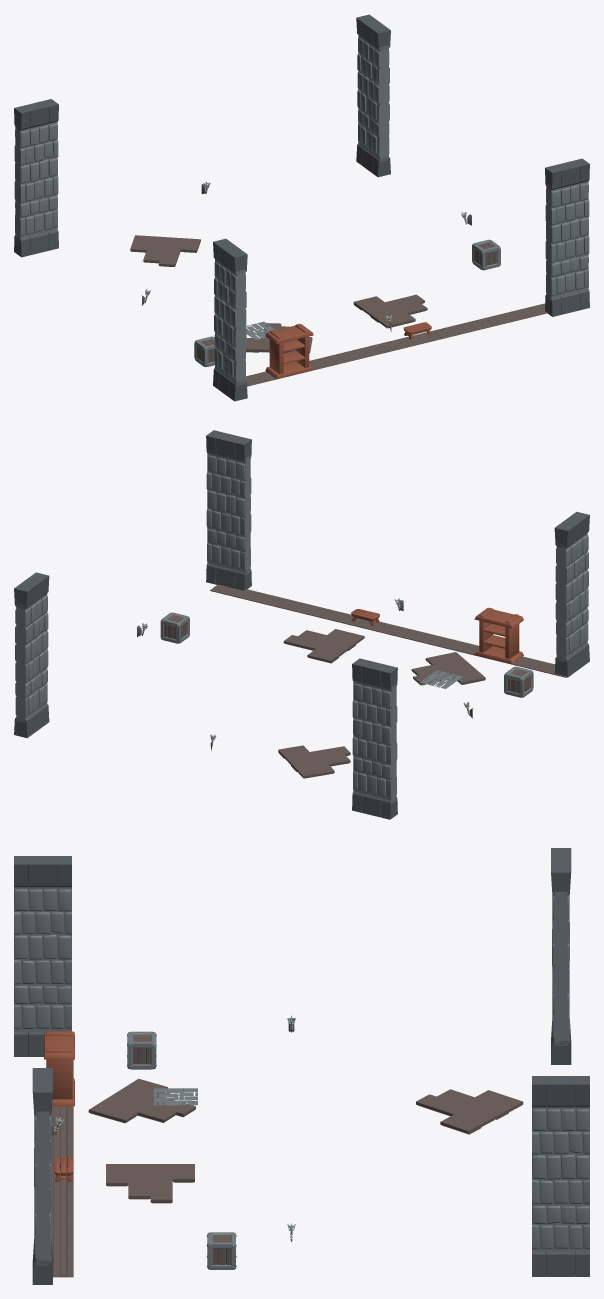
File: modelo.glb
The picture shows the model from 3 angles, top to bottom: view 1: azimuth 30°, elevation 25°; view 2: azimuth 150°, elevation 25°; view 3: azimuth 270°, elevation 25°; orthographic projection. The views are drawn at different scales.
Visible parts, largest first — view 1: wall.002, wall.001, wall.003, wall, floorDecoration_wood, bookcase, floorDecoration_woodLeft, floorDecoration_woodLeft.002, crateDark.001, crateDark, floorDecoration_woodLeft.001; view 2: wall.002, wall.001, wall.003, wall, floorDecoration_wood, bookcase, floorDecoration_woodLeft, floorDecoration_woodLeft.002, floorDecoration_woodLeft.001, crateDark.001, crateDark; view 3: wall.003, wall, wall.001, wall.002, floorDecoration_wood, floorDecoration_woodLeft.002, floorDecoration_woodLeft, floorDecoration_woodLeft.001, bookcase, crateDark, crateDark.001, floorDecoration_tilesLarge.001.
Part boxes in pixels (x1,y1,x2,y2): wall.002: (14,99,58,257); wall.001: (545,158,589,316); wall.003: (356,14,390,177); wall: (213,238,247,401); floorDecoration_wood: (245,303,547,386); bookcase: (265,323,313,378); floorDecoration_woodLeft: (353,294,427,328); floorDecoration_woodLeft.002: (130,235,200,266); crateDark.001: (472,239,500,270); crateDark: (194,336,214,366); floorDecoration_woodLeft.001: (245,323,312,353); wall.002: (352,658,397,819); wall.001: (206,430,251,590); wall.003: (14,572,49,738); wall: (554,511,589,677); floorDecoration_wood: (210,584,566,677); bookcase: (474,607,523,663); floorDecoration_woodLeft: (283,629,364,663); floorDecoration_woodLeft.002: (278,745,350,778); floorDecoration_woodLeft.001: (411,652,485,685); crateDark.001: (160,612,189,643); crateDark: (504,666,533,697); wall.003: (532,1076,589,1276); wall: (14,856,71,1056); wall.001: (32,1068,52,1284); wall.002: (551,848,571,1064); floorDecoration_wood: (51,1059,73,1277); floorDecoration_woodLeft.002: (416,1089,523,1134); floorDecoration_woodLeft: (106,1164,194,1203); floorDecoration_woodLeft.001: (88,1078,195,1123); bookcase: (44,1031,74,1106); crateDark: (127,1031,156,1069); crateDark.001: (206,1232,236,1269); floorDecoration_tilesLarge.001: (158,1088,197,1105).
Bounding box in the file's own units: 84.17 × 31.1 × 83.84.
